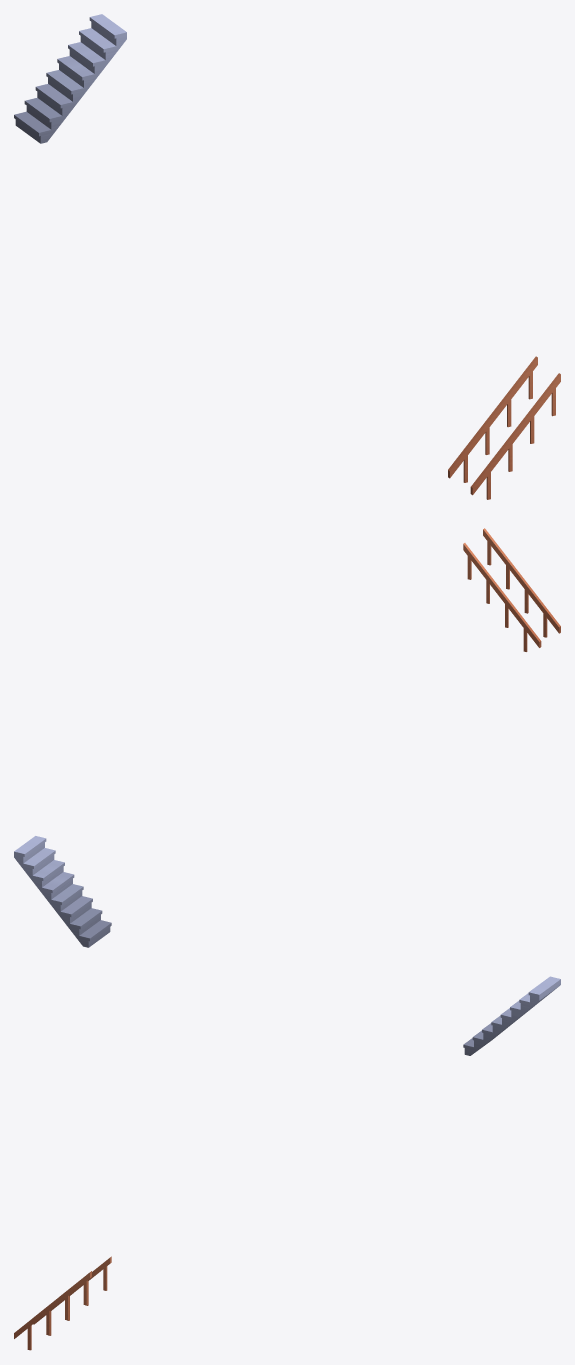
Rendered from stairsStoneHandrail.fbx.
3 renders of one model, top to bottom at view 1: azimuth 30°, elevation 25°; view 2: azimuth 150°, elevation 25°; view 3: azimuth 330°, elevation 25°, orthographic. The views are drawn at different scales.
Parts seen in each view (by area): view 1: stairsStoneHandrail, rail; view 2: stairsStoneHandrail, rail; view 3: stairsStoneHandrail, rail.
Part boxes in pixels (box(x1,y1,x2,y2)): stairsStoneHandrail: box(14, 14, 126, 143); rail: box(448, 356, 560, 499); stairsStoneHandrail: box(14, 836, 111, 947); rail: box(463, 528, 560, 651); stairsStoneHandrail: box(463, 976, 560, 1055); rail: box(14, 1256, 111, 1350).
Bounding box in the file's own units: 1.52 × 10.06 × 1.2.
